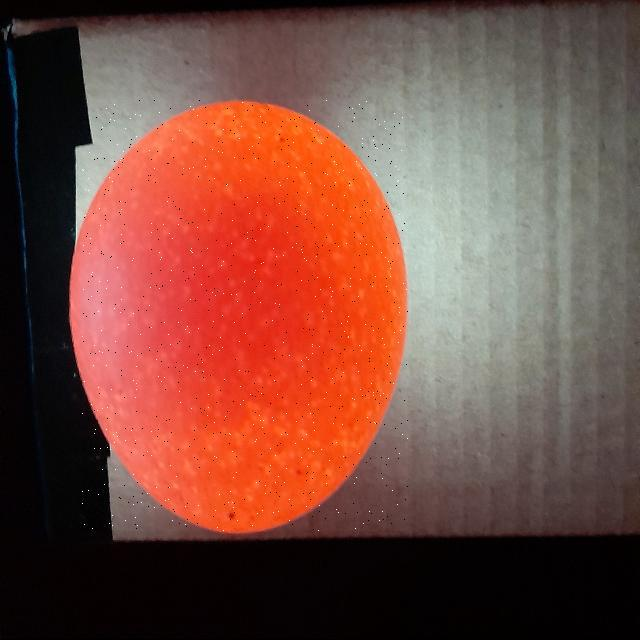AA - Premium: (82, 99, 408, 531)
